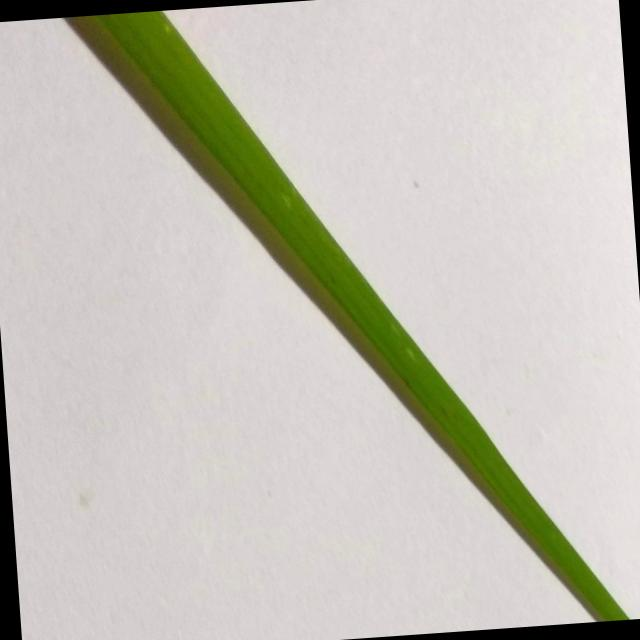Rice_Healthy: (67, 10, 629, 621)
